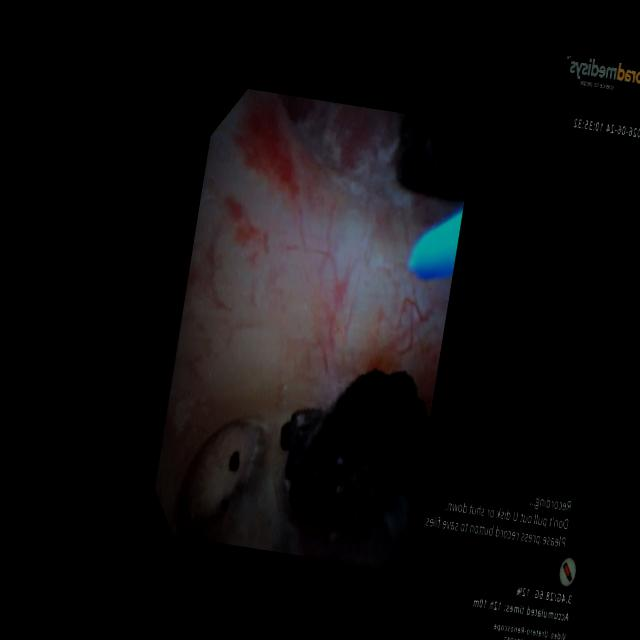stone-new: (281, 369, 429, 536), (397, 114, 468, 201), (230, 451, 240, 471)
